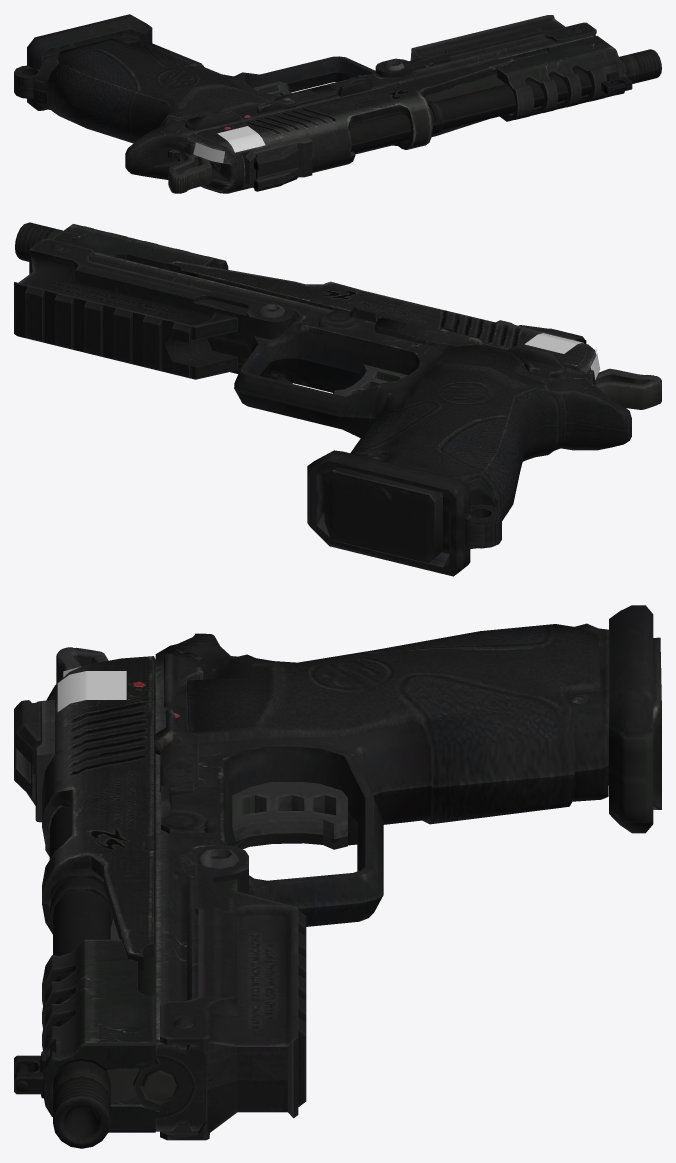
File: t6_wpn_pistol_b2023r_view_LOD0.obj
3 views of the same model, one above another, from view 1: azimuth 30°, elevation 25°; view 2: azimuth 150°, elevation 25°; view 3: azimuth 270°, elevation 25° (orthographic). The views are drawn at different scales.
Parts seen in each view (by area): view 1: mtl_t6_wpn_pistol_b2023r, mtl_t6_wpn_pistol_b2023r_camo3, mtl_t6_wpn_pistol_b2023r_camo1, mtl_t6_wpn_pistol_b2023r_camo2, mtl_player_icon, mtl_clan_tag; view 2: mtl_t6_wpn_pistol_b2023r, mtl_t6_wpn_pistol_b2023r_camo3, mtl_t6_wpn_pistol_b2023r_camo2, mtl_t6_wpn_pistol_b2023r_camo1, mtl_player_icon; view 3: mtl_t6_wpn_pistol_b2023r, mtl_t6_wpn_pistol_b2023r_camo3, mtl_t6_wpn_pistol_b2023r_camo2, mtl_t6_wpn_pistol_b2023r_camo1, mtl_player_icon.
Boxes of the visible parts, x1,y1,x2,y2 form: mtl_t6_wpn_pistol_b2023r: (14, 15, 625, 191); mtl_t6_wpn_pistol_b2023r_camo3: (27, 14, 661, 193); mtl_t6_wpn_pistol_b2023r_camo1: (186, 48, 626, 193); mtl_t6_wpn_pistol_b2023r_camo2: (14, 35, 614, 142); mtl_player_icon: (217, 126, 265, 152); mtl_clan_tag: (193, 142, 224, 163); mtl_t6_wpn_pistol_b2023r: (14, 238, 631, 562); mtl_t6_wpn_pistol_b2023r_camo3: (15, 222, 661, 576); mtl_t6_wpn_pistol_b2023r_camo2: (52, 224, 586, 558); mtl_t6_wpn_pistol_b2023r_camo1: (84, 226, 596, 373); mtl_player_icon: (524, 333, 583, 353); mtl_t6_wpn_pistol_b2023r: (14, 623, 661, 1140); mtl_t6_wpn_pistol_b2023r_camo3: (14, 605, 653, 1148); mtl_t6_wpn_pistol_b2023r_camo2: (85, 637, 661, 1042); mtl_t6_wpn_pistol_b2023r_camo1: (39, 656, 159, 1132); mtl_player_icon: (57, 671, 126, 711).
Size of the model in its own units: 33.53 by 4.93 by 19.31.
